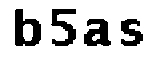5: (47, 5, 79, 52)
a: (84, 17, 114, 48)
b: (11, 3, 45, 50)
s: (119, 18, 146, 48)
